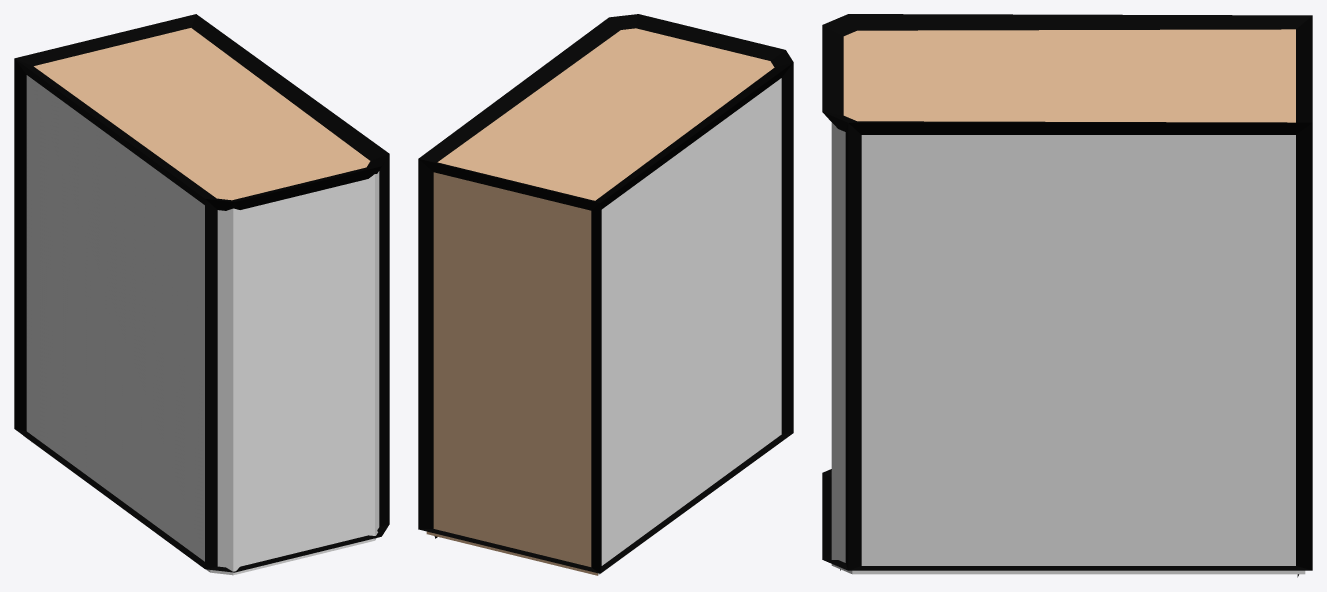
3 renders of one model, left to right at view 1: azimuth 30°, elevation 25°; view 2: azimuth 150°, elevation 25°; view 3: azimuth 270°, elevation 25°, orthographic. The views are drawn at different scales.
Visible parts, largest first — view 1: Book_2, Outlines; view 2: Book_2, Outlines; view 3: Book_2, Outlines.
Part boxes in pixels (left/top/right/bottom): Book_2: left=23, top=28, right=379, bottom=575; Outlines: left=14, top=14, right=389, bottom=572; Book_2: left=426, top=28, right=781, bottom=575; Outlines: left=418, top=14, right=793, bottom=573; Book_2: left=831, top=29, right=1305, bottom=574; Outlines: left=822, top=14, right=1312, bottom=577.
Size of the model in its own units: 0.1956 by 0.3876 by 0.3723.
